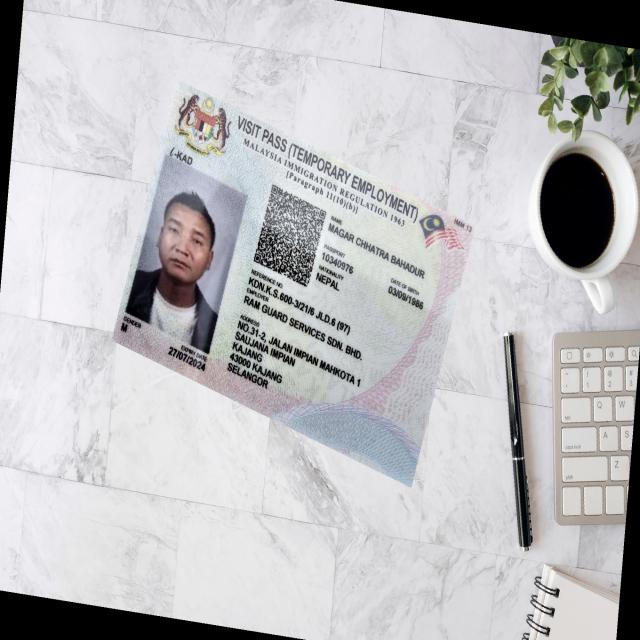ikad-temp: (110, 79, 473, 487)
